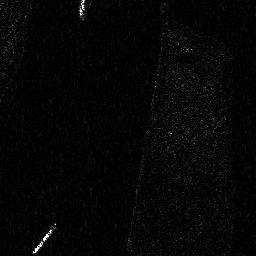ship: (33, 224, 55, 253)
